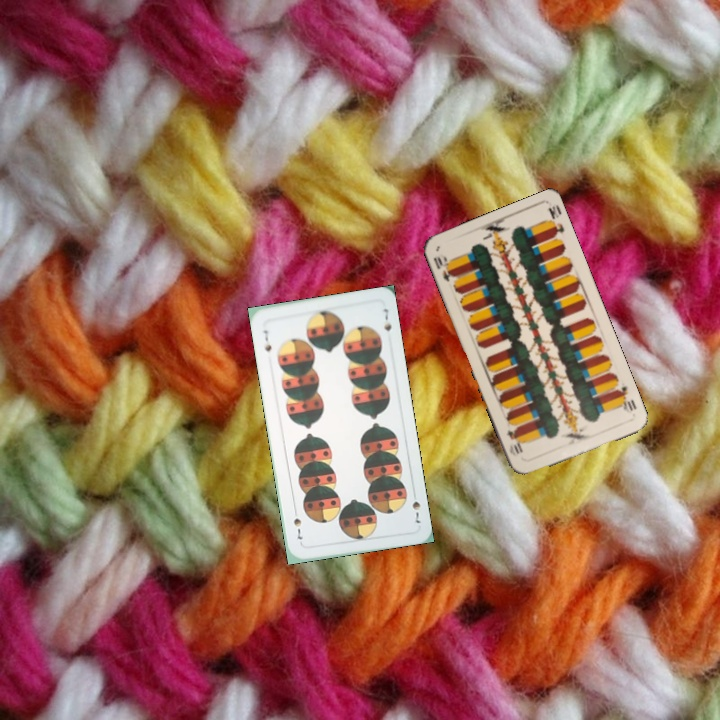E10: (612, 382, 639, 416), (429, 252, 457, 284)
S7: (408, 487, 425, 526), (260, 326, 274, 354)
